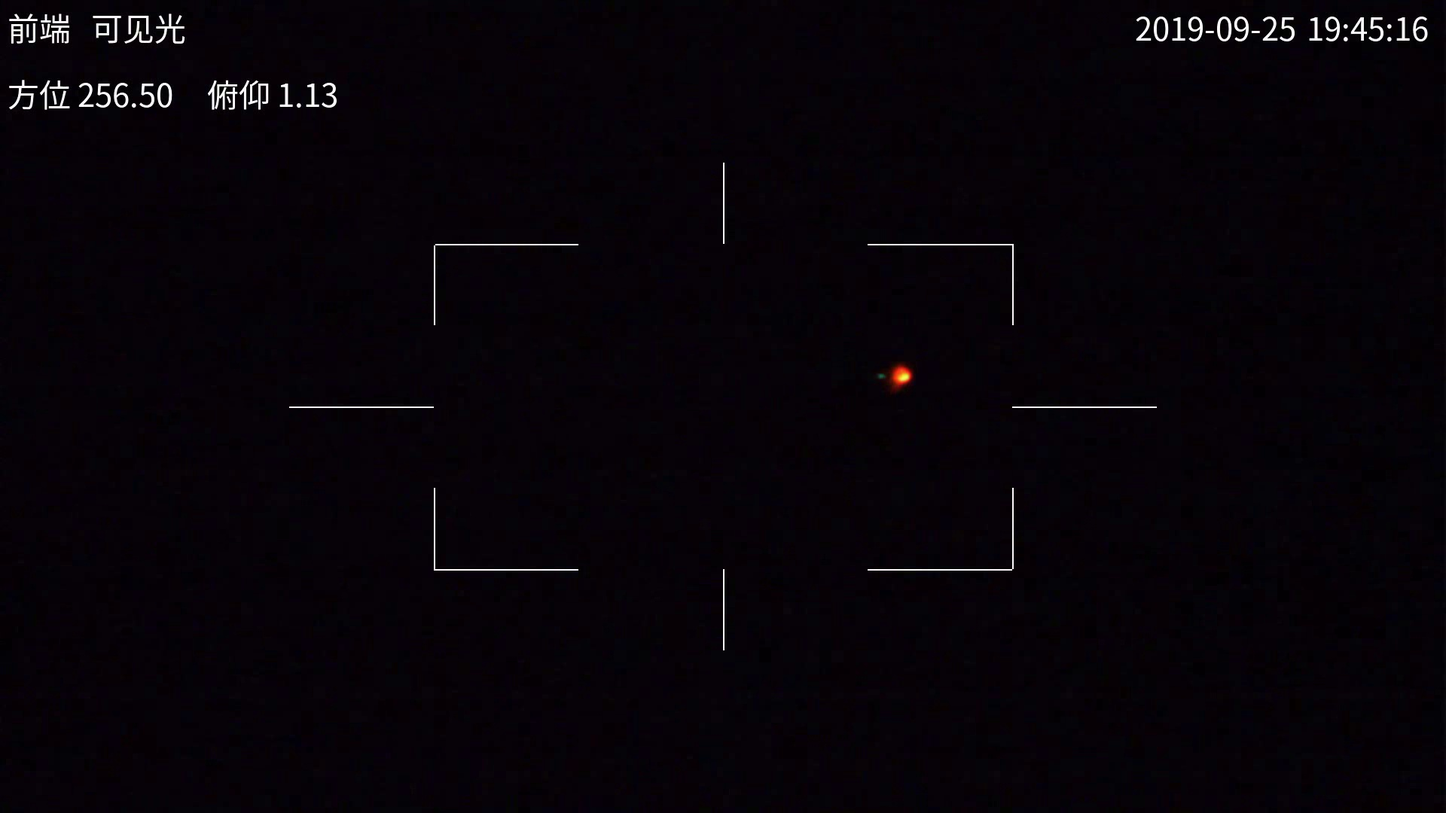drone: (877, 363, 916, 394)
